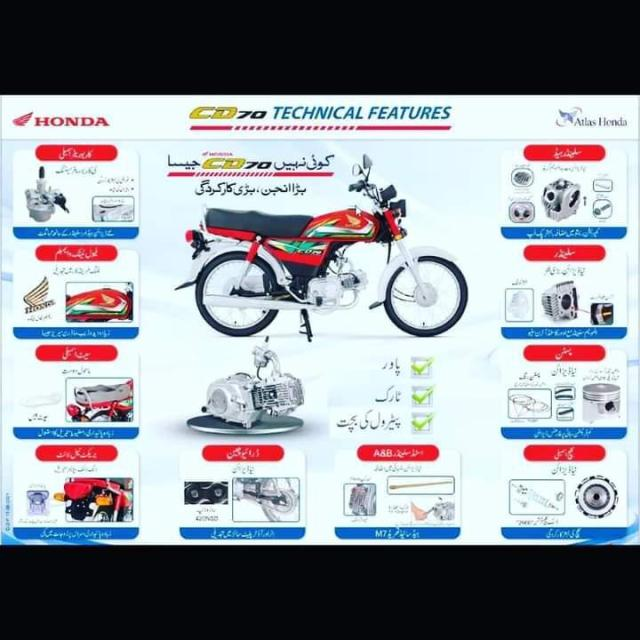motorcycle: (161, 124, 467, 351)
